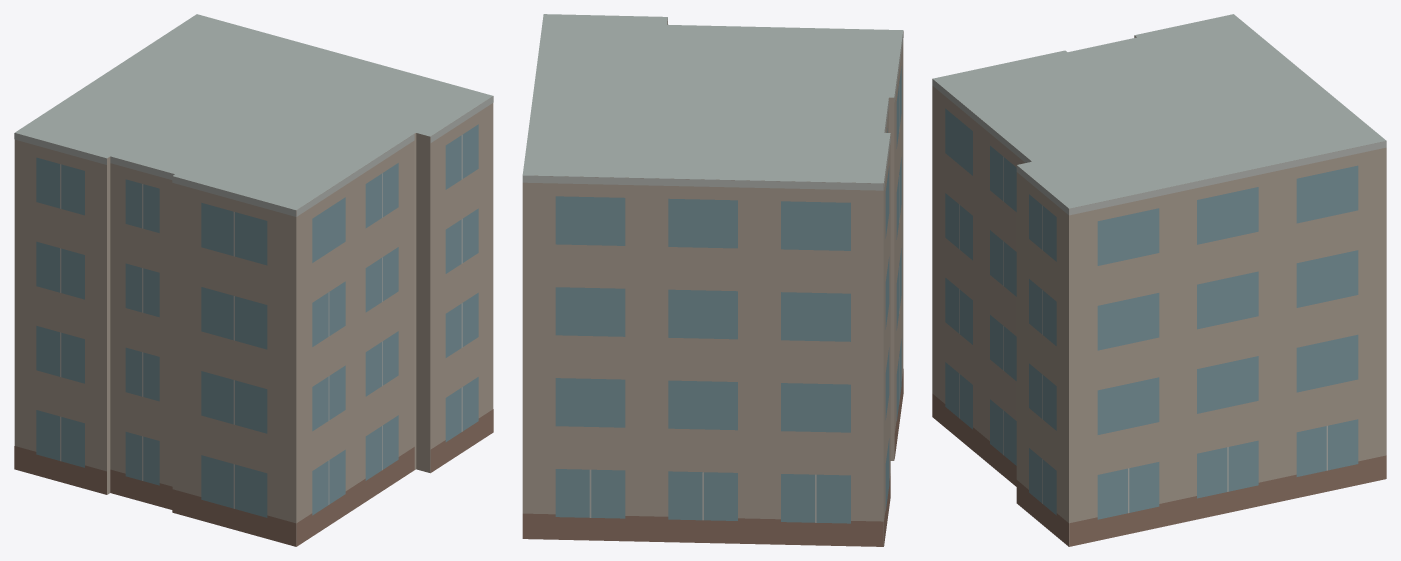
File: survey-upis-32605201.glb
3 views of the same model, side by side, from view 1: azimuth 30°, elevation 25°; view 2: azimuth 150°, elevation 25°; view 3: azimuth 270°, elevation 25° (orthographic). The views are drawn at different scales.
Parts seen in each view (by area): view 1: survey-upis-32605201.tmp; view 2: survey-upis-32605201.tmp; view 3: survey-upis-32605201.tmp.
Part boxes in pixels (bbox=[...]): survey-upis-32605201.tmp: bbox=[14, 14, 493, 546]; survey-upis-32605201.tmp: bbox=[522, 14, 903, 546]; survey-upis-32605201.tmp: bbox=[932, 14, 1386, 546].
Bounding box in the file's own units: 15.07 × 12.2 × 14.86.
